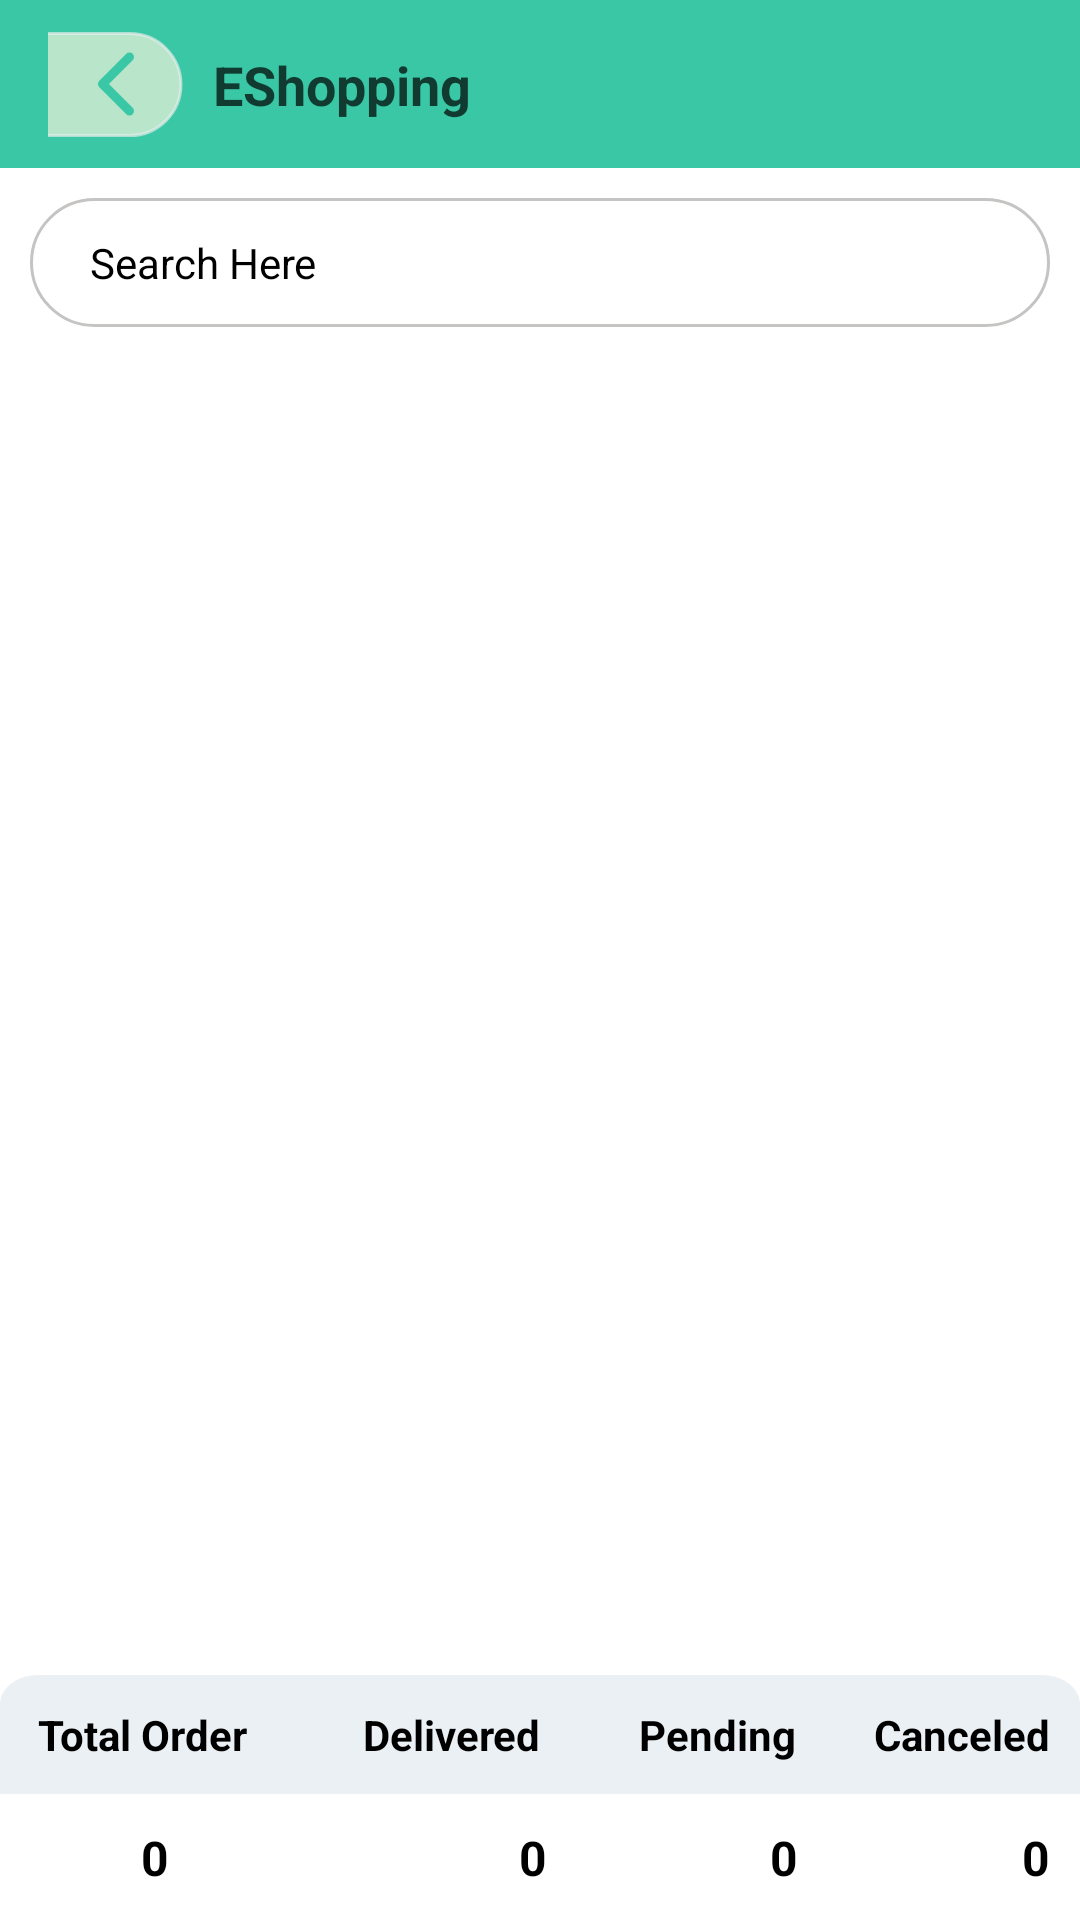

Locate icon controls on the screen. Image size 1080 x 1920, boxes as (x1, y1, x2, y2).
back: (48, 32, 183, 137)
